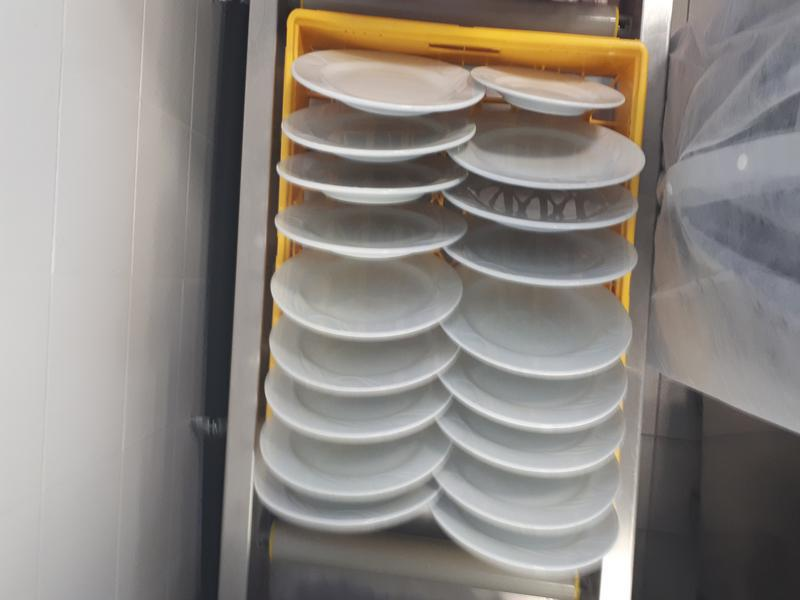Dish: (269, 246, 461, 338), (443, 285, 631, 373), (267, 317, 459, 393), (292, 45, 485, 117), (271, 198, 468, 262), (259, 440, 456, 502), (433, 466, 626, 529), (451, 125, 647, 187), (280, 101, 477, 162), (250, 477, 440, 537), (428, 512, 618, 572), (259, 385, 453, 443), (275, 151, 467, 207), (448, 235, 645, 289), (445, 372, 631, 429), (472, 65, 623, 125), (447, 424, 623, 475), (446, 190, 643, 234)
